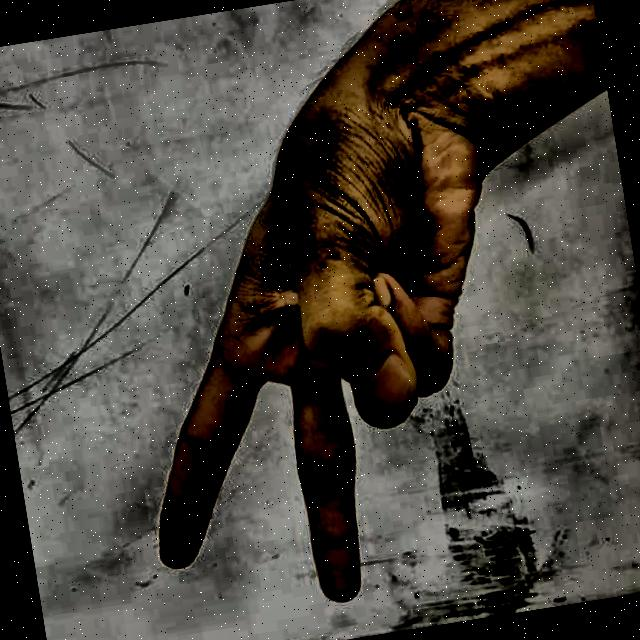Pa: (74, 29, 562, 640)
